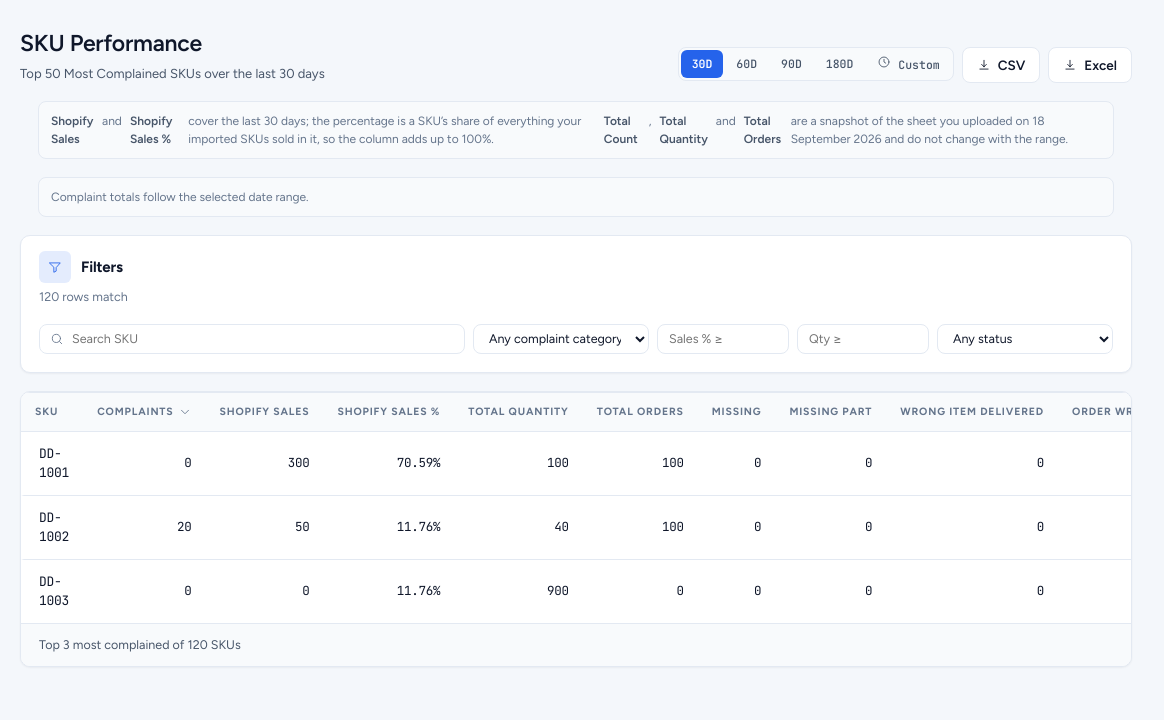
Test case: SKU Performance › counts matches rather than the top 50 while filtering
Expected: the heading "SKU Performance" is shown, [20, 29, 202, 57]
In the field labelled "Search SKU": (252, 339) [39, 324, 465, 354], type "DD"
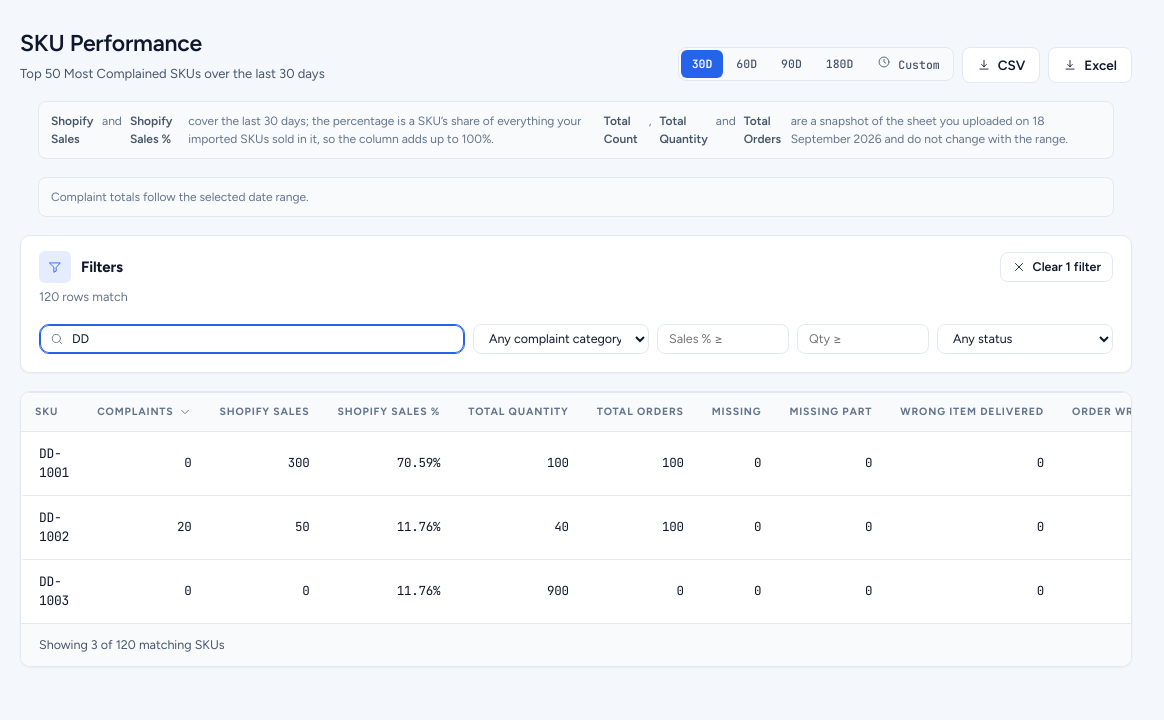
Result: the text "Showing 3 of 120 matching SKUs" is shown at [39, 636, 225, 654]
